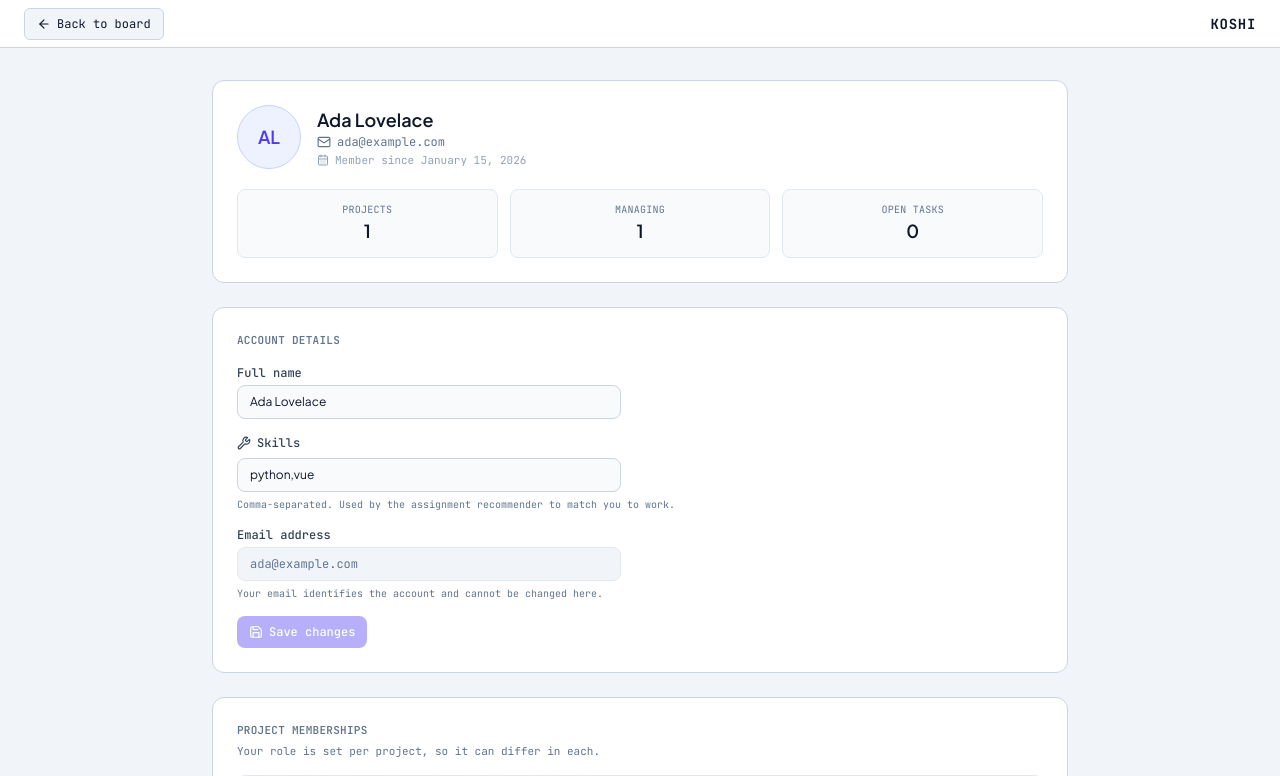
editing › disables save until something actually changes
Expected: the button "Save changes" is disabled, [237,616,367,648]
Replace the text in the field labelled "Full name" with "Ada L." at (429, 402), box [237,384,621,418]
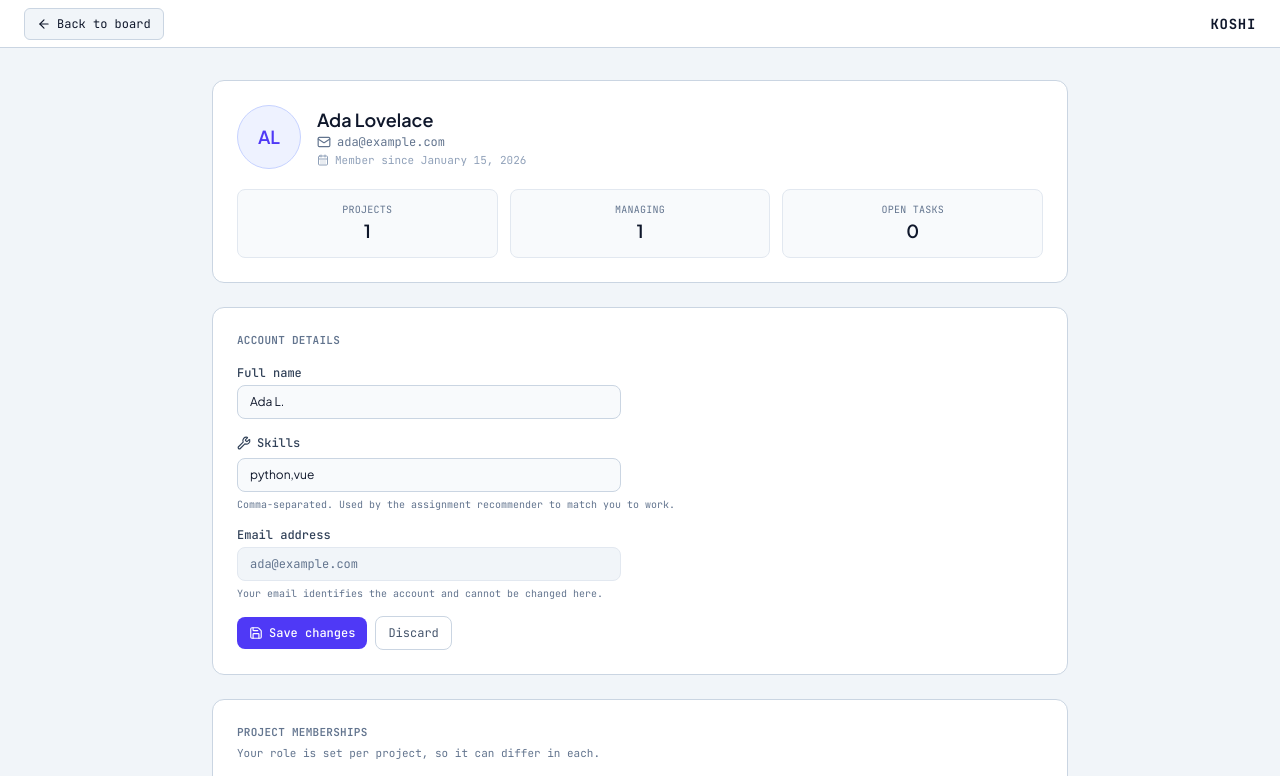
Expected: the button "Save changes" is enabled, [237,617,367,649]
